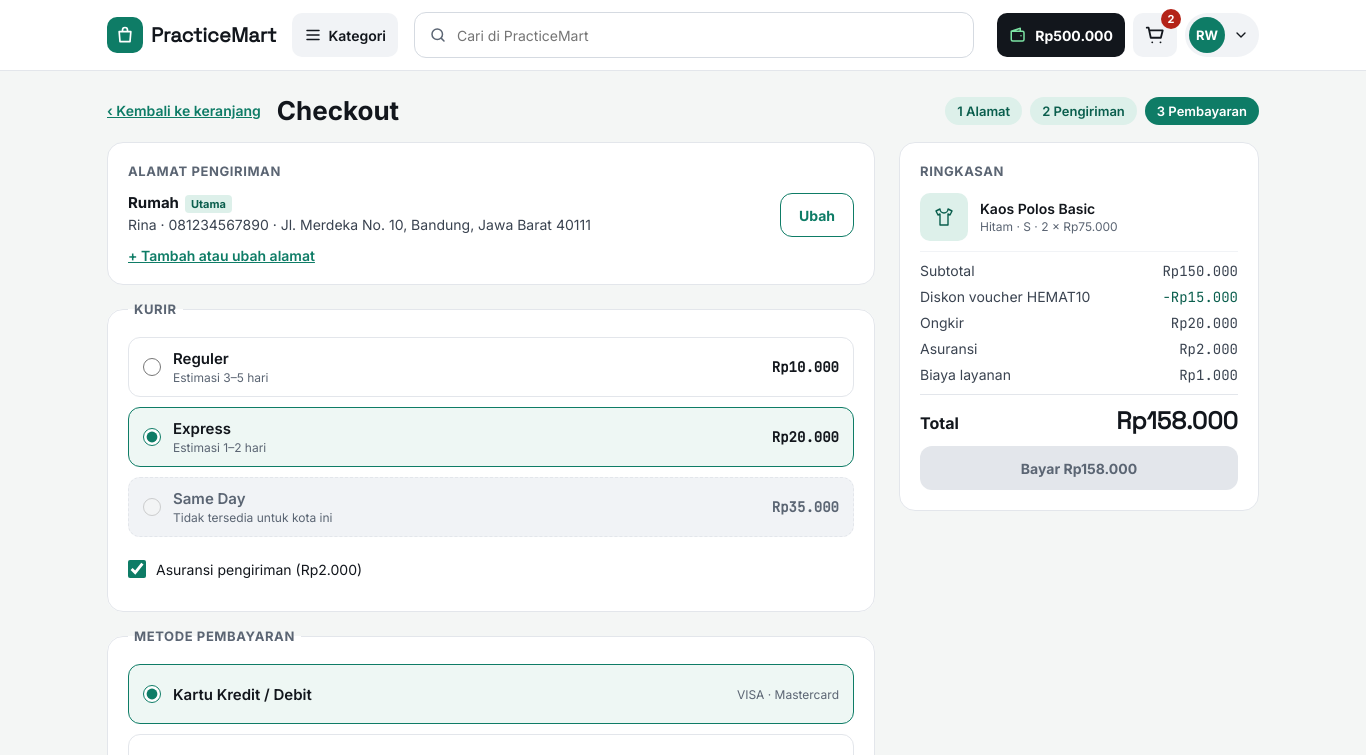
Scenario: Checkout: ringkasan, kurir, alamat › Same Day: tidak tersedia di luar DKI; ganti alamat → tersedia + wajib jam kirim
This screenshot has width=1366, height=755.
Expected: the radio button with test id "shop_rdo_courier_sameday" is disabled, [143,498,161,516]
Expected: the label with test id "shop_rdo_courier_sameday" shows "Tidak tersedia untuk kota ini", [173,510,332,525]
Click the button with test id "shop_btn_change_address". click: [817, 215]
box: [780,193,854,237]
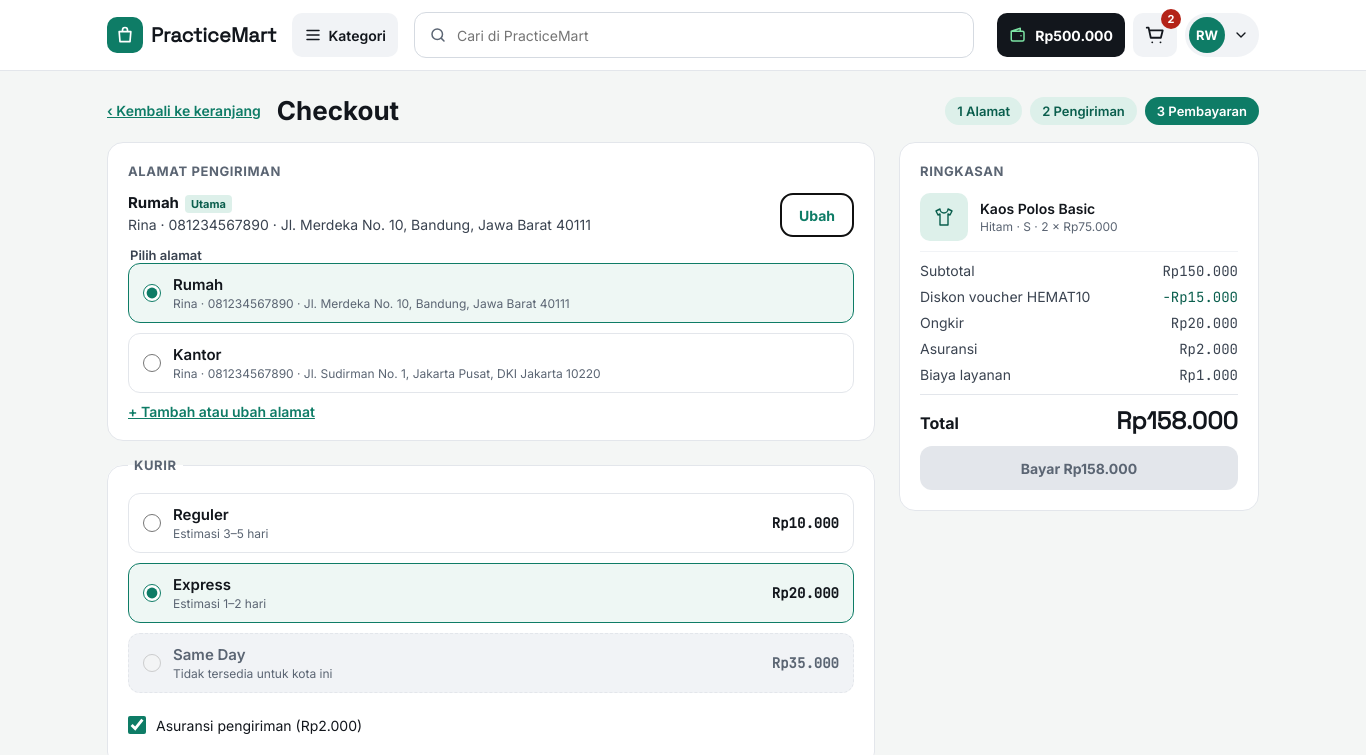
Click the 2nd radio button with test id "shop_rdo_address". click: [152, 363]
box: [143,354,161,372]
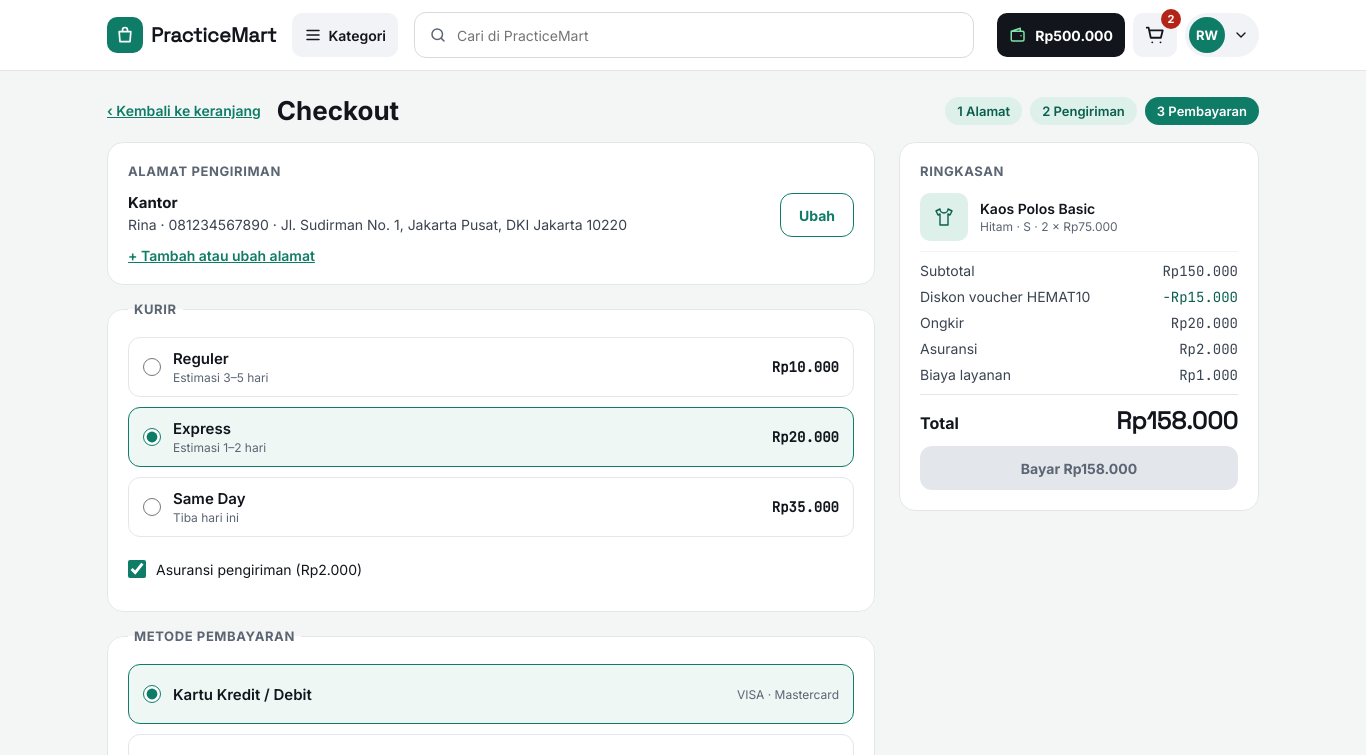
Result: the text with test id "shop_txt_checkout_address" shows "Jakarta Pusat" at [128,216,627,233]
Click the radio button with test id "shop_rdo_courier_sameday". click: [152, 507]
box: [143,498,161,516]
(page scrolled)
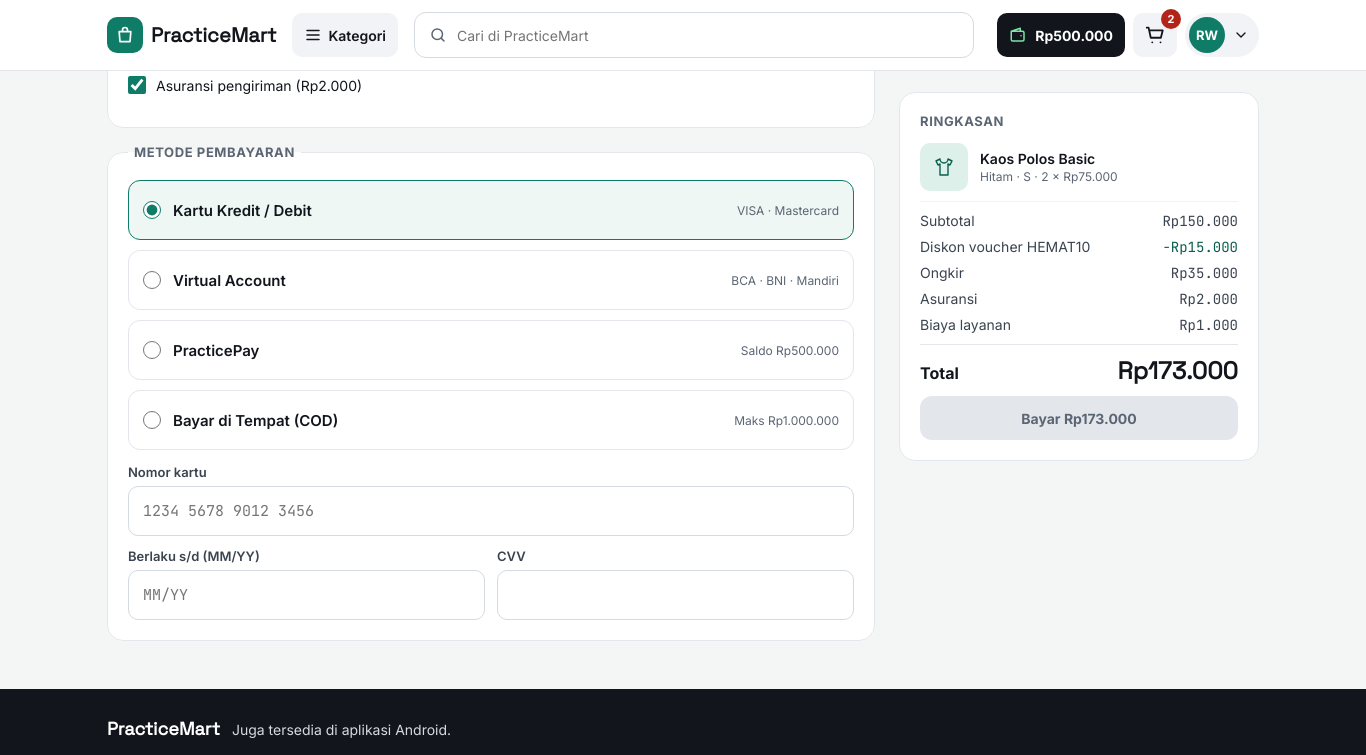
Result: the text with test id "shop_txt_checkout_shipping" reads "Rp35.000" at [1171,264,1238,282]
Click the radio button with test id "shop_rdo_pay_cod". click: [152, 420]
box: [143,411,161,429]
(page scrolled)
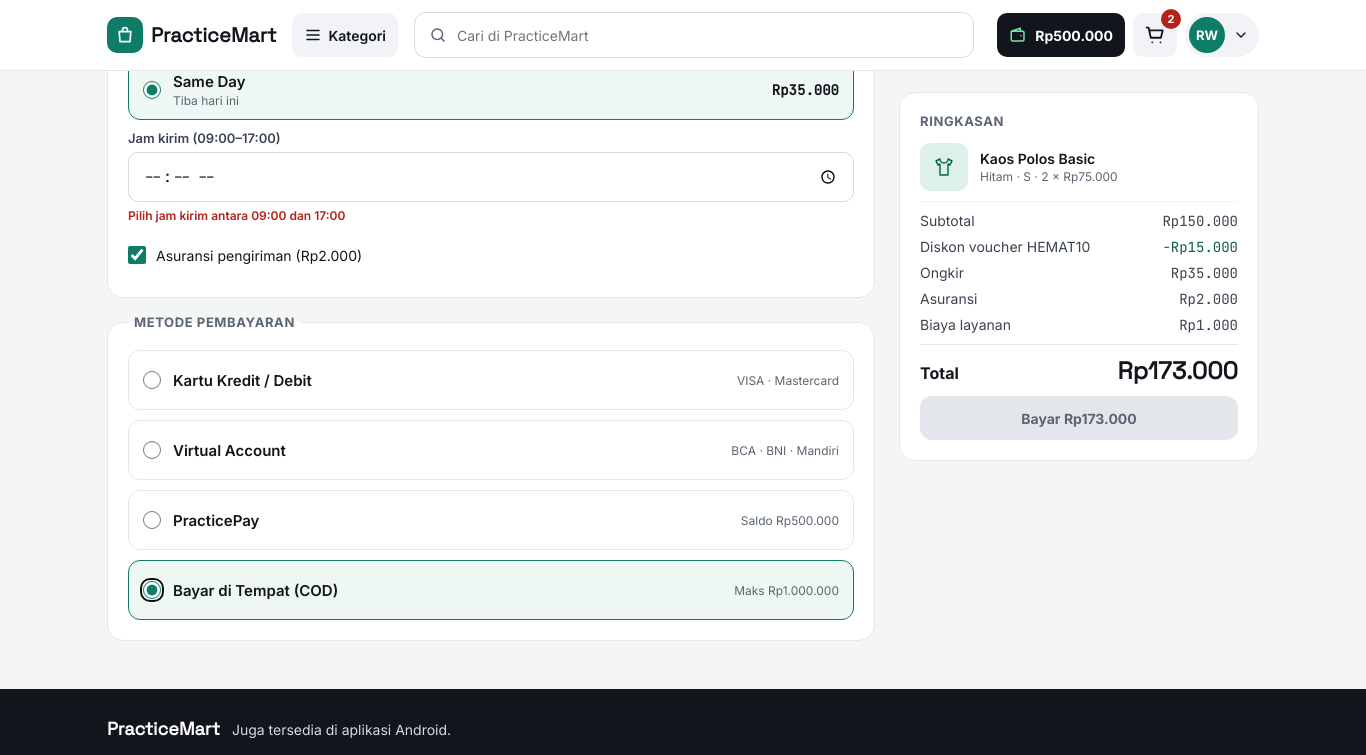
Expected: the button with test id "shop_btn_pay" is disabled, [920,396,1238,440]
Result: the text "Pilih jam kirim antara 09:00 dan 17:00" is shown at [128,208,345,223]
Type "08:00" into the time field with test id "shop_input_delivery_time". click: [491, 177]
box: [128,152,854,202]
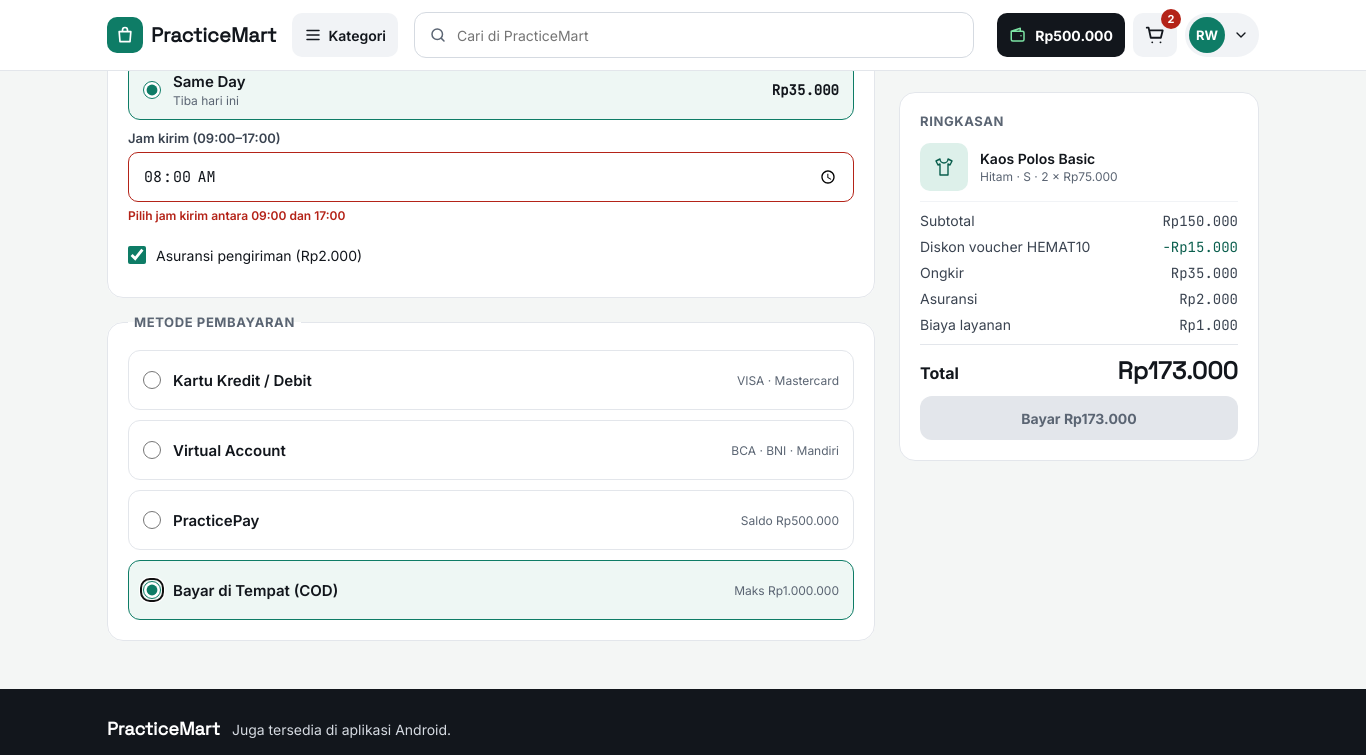
Expected: the button with test id "shop_btn_pay" is disabled, [920,396,1238,440]
Replace the text in the time field with test id "shop_input_delivery_time" with "10:00". click: [491, 177]
box: [128,152,854,202]
(page scrolled)
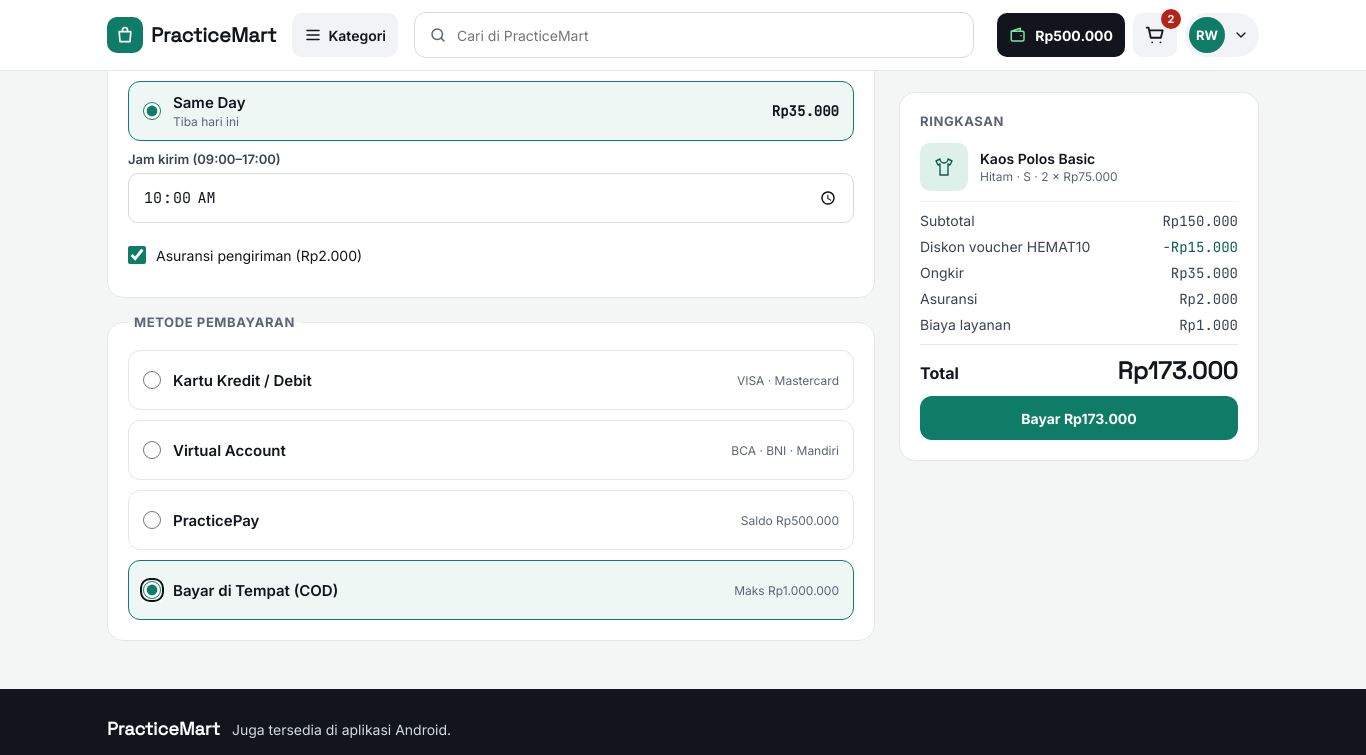
Result: the button with test id "shop_btn_pay" is enabled at [920,396,1238,440]
Result: the text with test id "shop_txt_delivery_time_error" is gone
